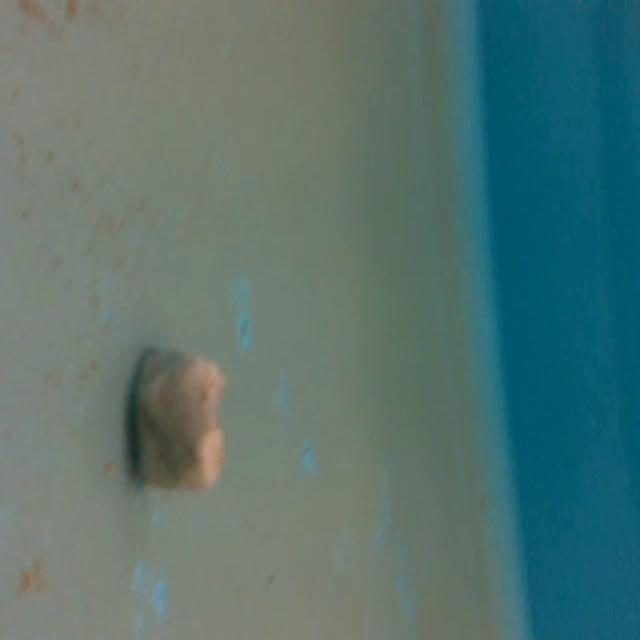rock: (124, 334, 231, 506)
